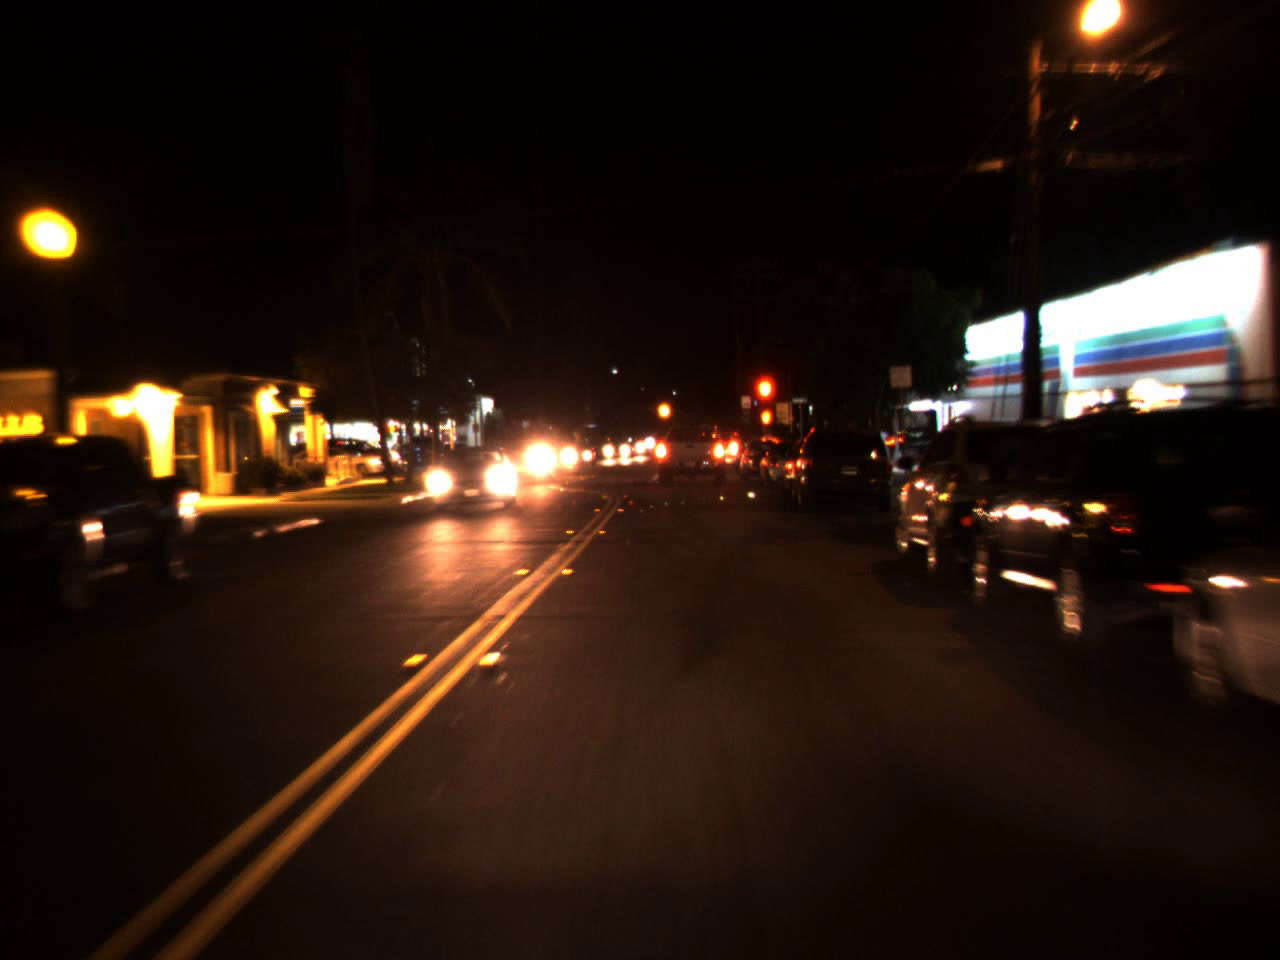stop: (748, 370, 781, 434)
warning: (653, 391, 674, 428)
